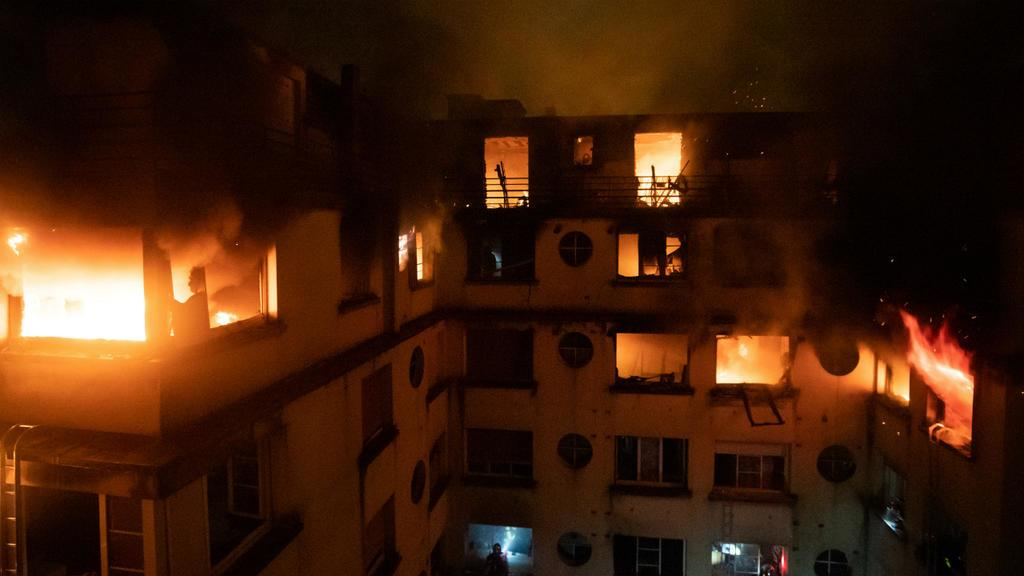Fire: (618, 109, 994, 455), (16, 220, 287, 348)
